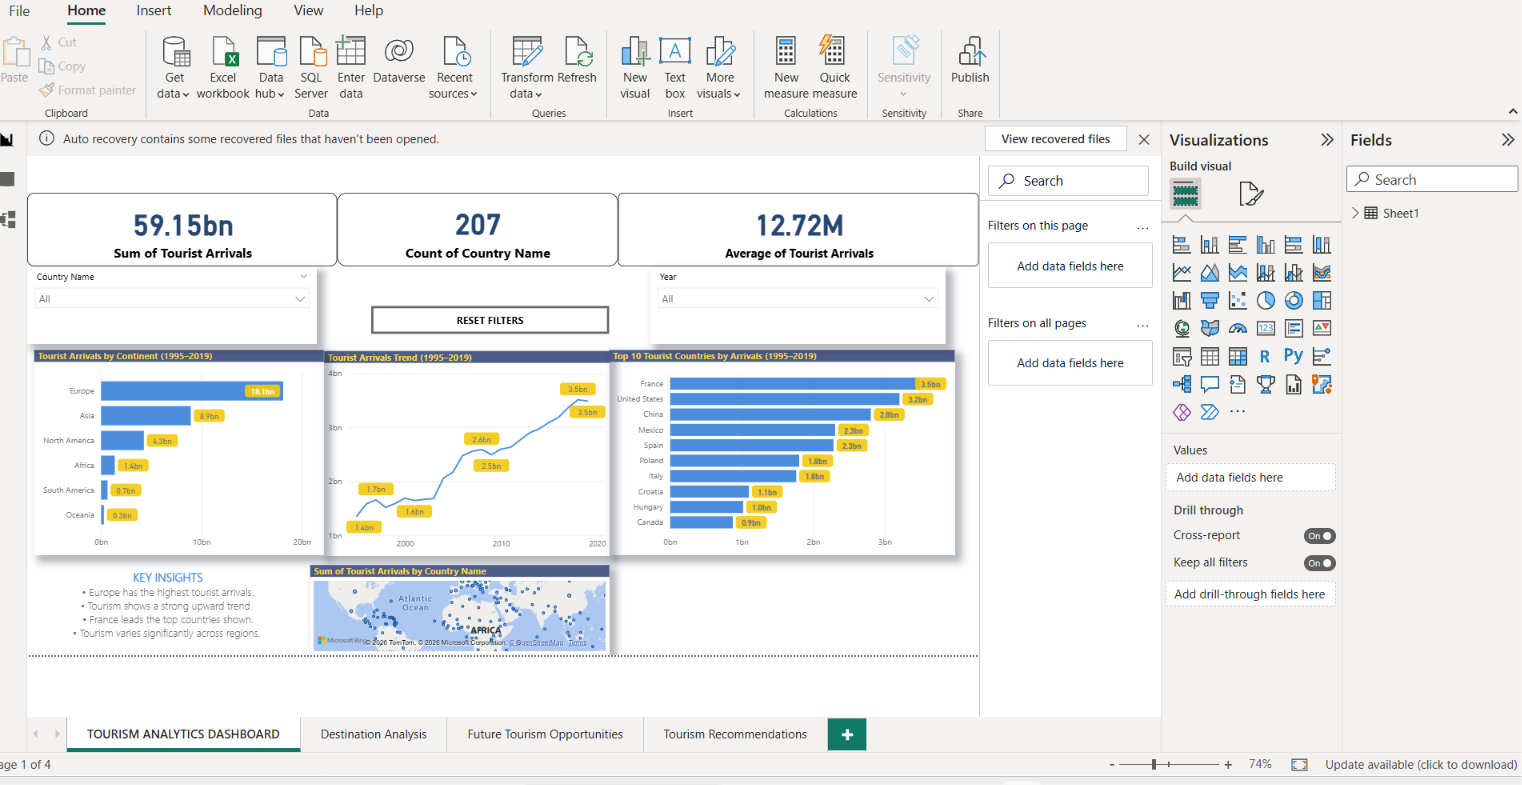

Layout of this report page (visuals, bound fields, positions):
{"tool":"powerbi","page":{"name":"TOURISM ANALYTICS DASHBOARD","canvas":[1280,720],"ordinal":0},"visuals":[{"type":"lineChart","title":"Tourist Arrivals Trend (1995–2019)","fields":{"Category":["Sheet1.Year"],"Y":["Sum(Sheet1.Tourist Arrivals)"]},"box":[399.3,310.1,384.2,275.8],"z":0},{"type":"clusteredBarChart","title":"Tourist Arrivals by Continent (1995–2019)","fields":{"Category":["Sheet1.Continent"],"Y":["Sum(Sheet1.Tourist Arrivals)"]},"box":[9.6,309.8,389.7,275.8],"z":1000},{"type":"clusteredBarChart","title":"Top 10 Tourist Countries by Arrivals (1995–2019)","fields":{"Category":["Sheet1.Country Name"],"Y":["Sum(Sheet1.Tourist Arrivals)"]},"box":[783,309.8,464.7,275.7],"z":2000},{"type":"card","title":"Total Tourist Arrivals","fields":{"Values":["Sum(Sheet1.Tourist Arrivals)"]},"box":[0,98.7,417.2,98.8],"z":3000},{"type":"slicer","fields":{"Values":["Sheet1.Country Name"]},"box":[0,197.6,389.7,102.9],"z":4000},{"type":"slicer","fields":{"Values":["Sheet1.Year"]},"box":[838.4,197.6,397.9,102.9],"z":5000},{"type":"card","title":"Total Countries","fields":{"Values":["Count(Sheet1.Country Name)"]},"box":[417.2,98.7,377.4,98.8],"z":6000},{"type":"card","title":"Average Tourist Arrivals","fields":{"Values":["Avg(Sheet1.Tourist Arrivals)"]},"box":[794.9,98.7,485.1,98.7],"z":7000},{"type":"textbox","box":[0,0,1280.3,57.6],"z":8000},{"type":"textbox","box":[0,597.9,378.7,122.1],"z":9000},{"type":"actionButton","box":[463,250.2,320,37.4],"z":10000},{"type":"map","fields":{"Category":["Sheet1.Country Name"],"Size":["Sum(Sheet1.Tourist Arrivals)"]},"box":[380.1,598.3,402.1,120.8],"z":11000}]}

Visuals, with their boxes on the page's 1280x720 design canvas (x1, y1, x2, y2). These are canvas units, not pixel positions in the 1522x785 screenshot, which may show the page scaled, cropped or inside an application window:
"Tourist Arrivals Trend (1995–2019)" lineChart: (x1=399, y1=310, x2=784, y2=586)
"Tourist Arrivals by Continent (1995–2019)" clusteredBarChart: (x1=10, y1=310, x2=399, y2=586)
"Top 10 Tourist Countries by Arrivals (1995–2019)" clusteredBarChart: (x1=783, y1=310, x2=1248, y2=586)
"Total Tourist Arrivals" card: (x1=0, y1=99, x2=417, y2=198)
slicer - Sheet1.Country Name: (x1=0, y1=198, x2=390, y2=300)
slicer - Sheet1.Year: (x1=838, y1=198, x2=1236, y2=300)
"Total Countries" card: (x1=417, y1=99, x2=795, y2=198)
"Average Tourist Arrivals" card: (x1=795, y1=99, x2=1280, y2=197)
textbox: (x1=0, y1=0, x2=1280, y2=58)
textbox: (x1=0, y1=598, x2=379, y2=720)
actionButton: (x1=463, y1=250, x2=783, y2=288)
map - Sheet1.Country Name x Sum(Sheet1.Tourist Arrivals): (x1=380, y1=598, x2=782, y2=719)
